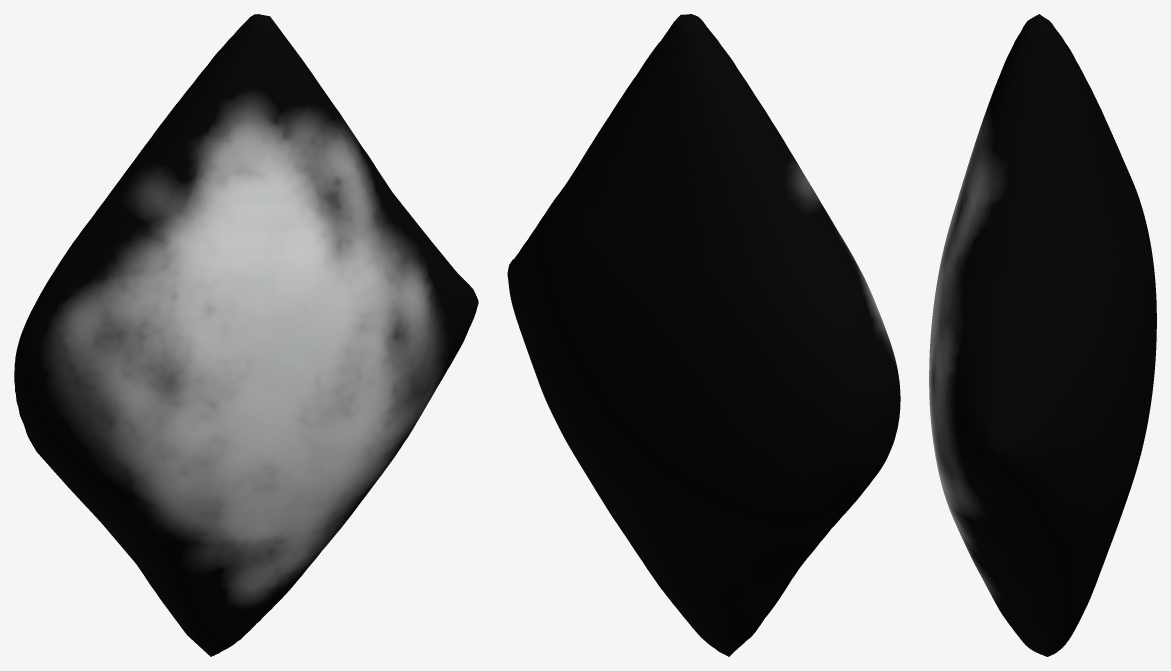
Rendered from rock.fbx.
3 renders of one model, left to right at view 1: azimuth 30°, elevation 25°; view 2: azimuth 150°, elevation 25°; view 3: azimuth 270°, elevation 25°, orthographic. The views are drawn at different scales.
Visible parts, largest first — view 1: node_id66; view 2: node_id66; view 3: node_id66.
Part boxes in pixels (box(x1,y1,x2,y2)): node_id66: box(14, 14, 478, 656); node_id66: box(507, 14, 900, 656); node_id66: box(929, 14, 1156, 656).
Size of the model in its own units: 0.3539 by 0.512 by 0.1593.
Materials: 1 (1 with a texture image).
